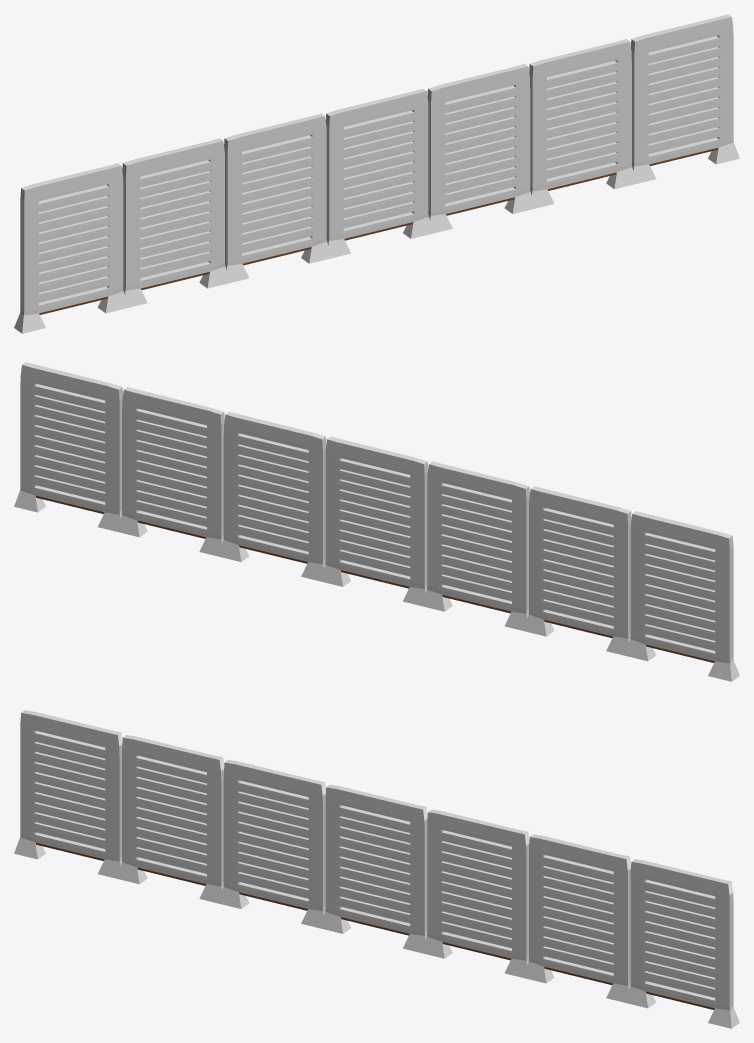
File: sekat.fbx
The picture shows the model from 3 angles, top to bottom: view 1: azimuth 30°, elevation 25°; view 2: azimuth 150°, elevation 25°; view 3: azimuth 330°, elevation 25°; orthographic projection.
Visible parts, largest first — view 1: Cube.001; view 2: Cube.001; view 3: Cube.001.
Boxes of the visible parts, left/top/right/bottom form: Cube.001: left=14, top=14, right=739, bottom=333; Cube.001: left=14, top=362, right=739, bottom=681; Cube.001: left=14, top=710, right=739, bottom=1028.
Bounding box in the file's own units: 1367 × 258 × 27.04.
2 materials, 1 textured.
